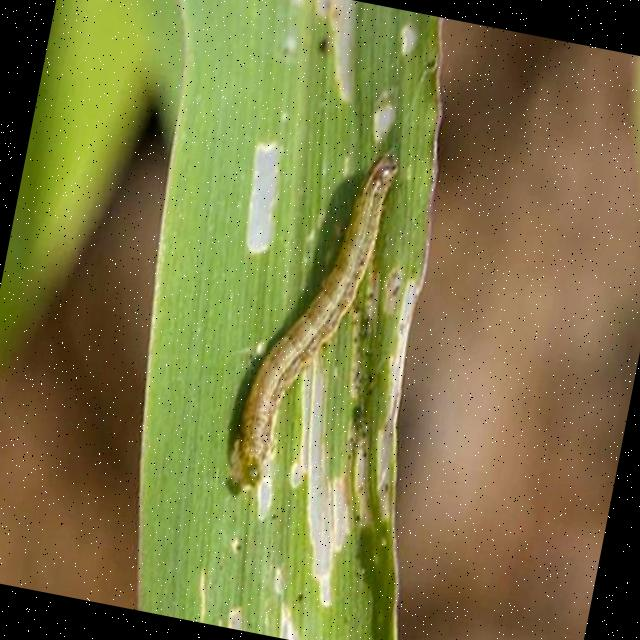worm: (221, 133, 404, 515)
